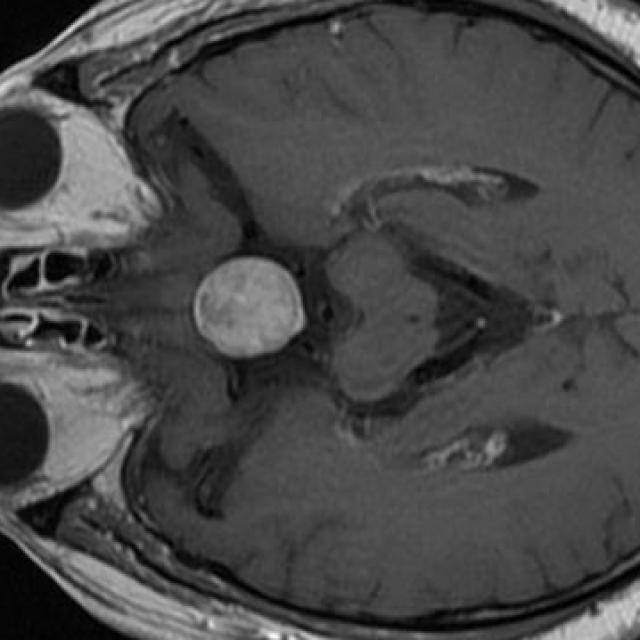pituitary: (193, 255, 307, 358)
